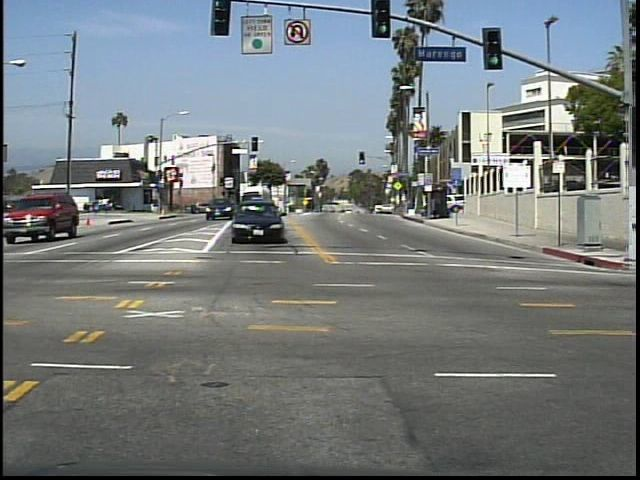person: (57, 192, 74, 220)
